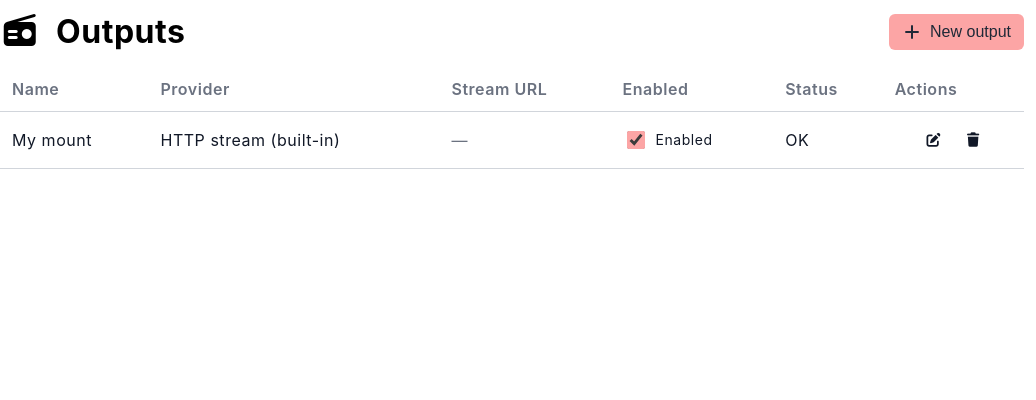
Scenario: OutputsView › reflects a stored record_listens=false when editing
Click the button named "Edit" at (934, 140), box [916,124,951,156]
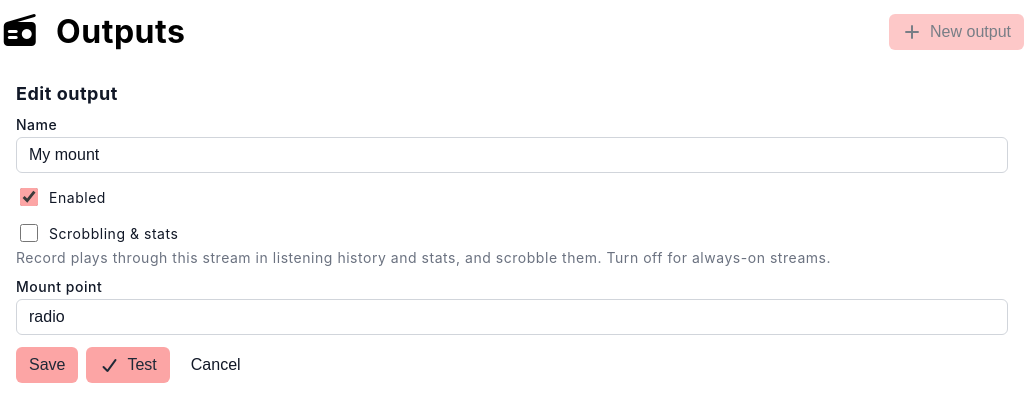
expect the element with class "app-checkbox" that starts with "Scrobbling & stats" is shown: met, box [16,224,831,266]
expect the checkbox labelled "Scrobbling & stats" is not checked: met, box [20,224,38,242]
